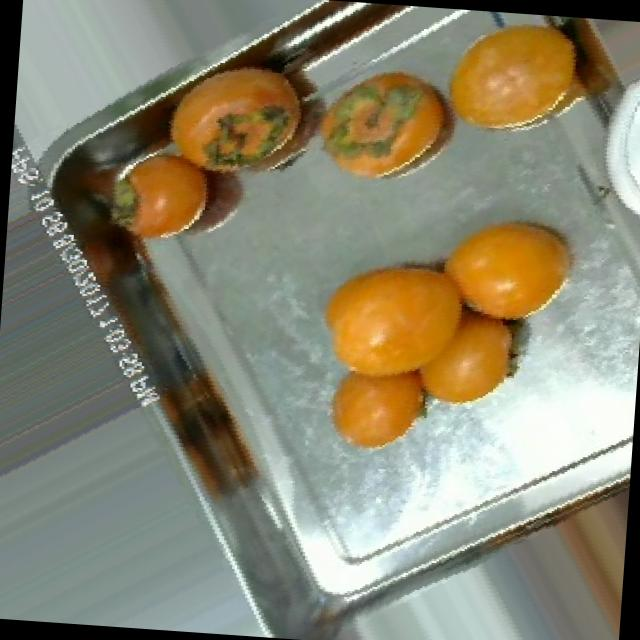Fruit: (414, 7, 635, 166), (135, 29, 340, 200), (290, 42, 486, 212), (95, 128, 272, 274), (422, 198, 596, 346), (307, 328, 458, 473)
